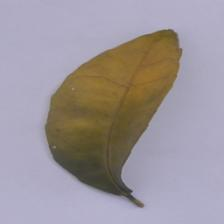greening: (47, 25, 188, 118)
